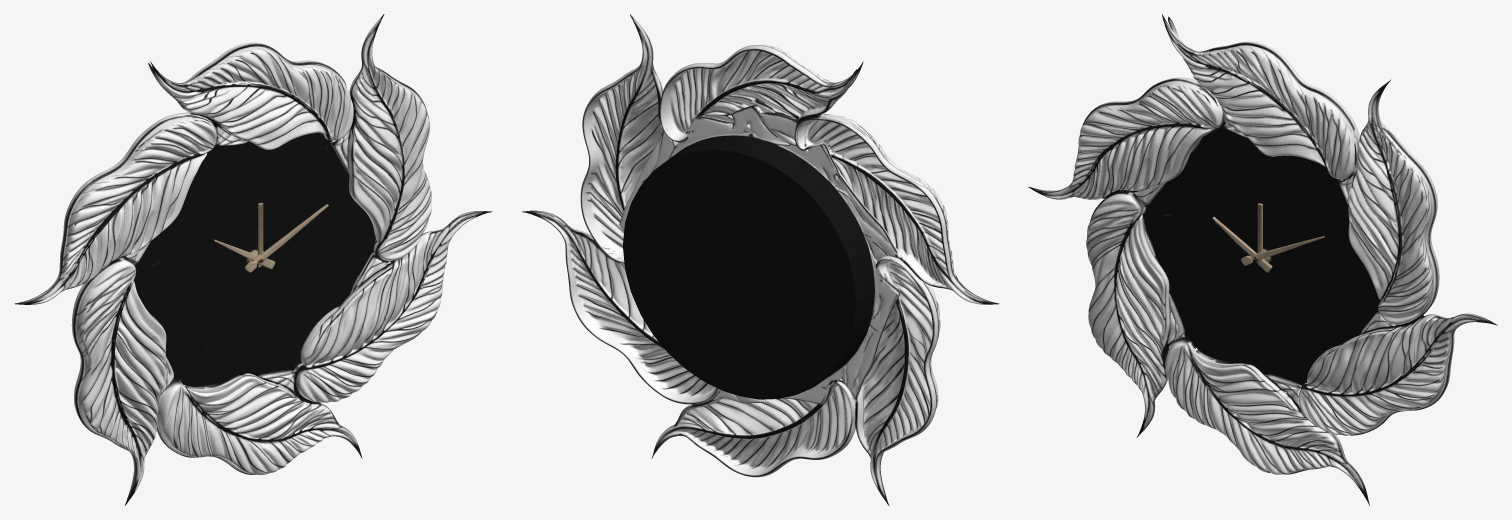
The model's file is Clock Leafy.glb.
3 renders of one model, left to right at view 1: azimuth 30°, elevation 25°; view 2: azimuth 150°, elevation 25°; view 3: azimuth 330°, elevation 25°, orthographic.
Size of the model in its own units: 1.9 by 1.7 by 0.1991.
Materials: 1 (1 with a texture image).
